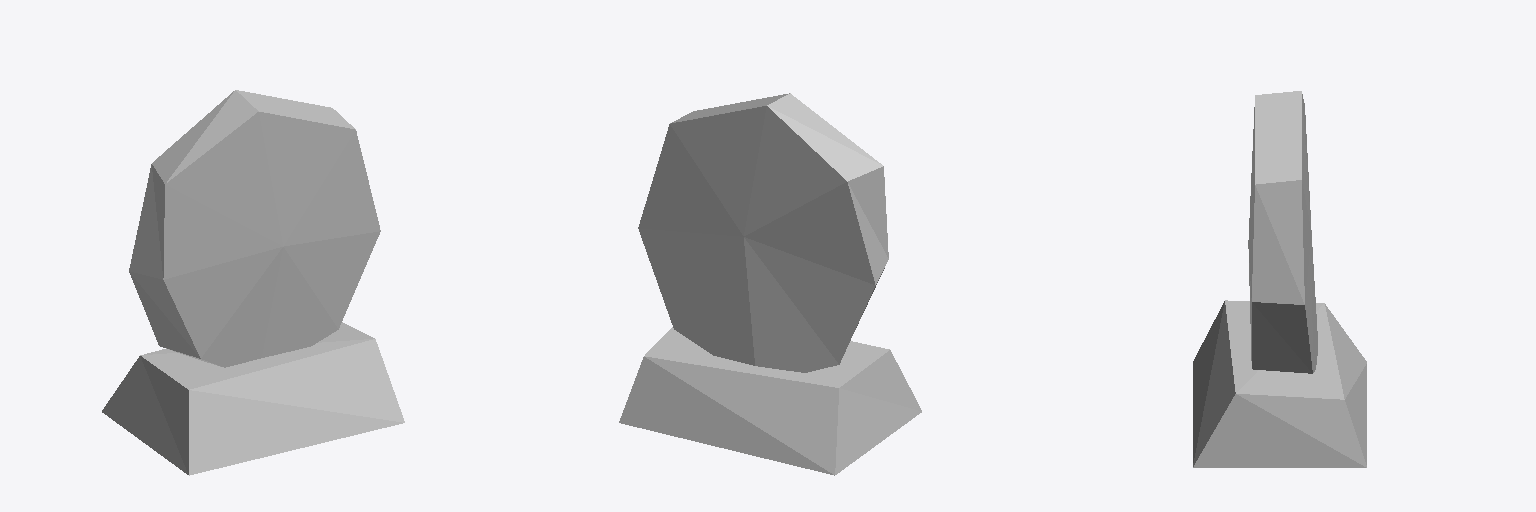
File: Monument.obj
3 views of the same model, side by side, from view 1: azimuth 30°, elevation 25°; view 2: azimuth 150°, elevation 25°; view 3: azimuth 270°, elevation 25° (orthographic).
Visible parts, largest first — view 1: Monument; view 2: Monument; view 3: Monument.
Boxes of the visible parts, x1=… form: Monument: x1=102, y1=90, x2=404, y2=475; Monument: x1=619, y1=93, x2=921, y2=475; Monument: x1=1193, y1=91, x2=1366, y2=467.
Size of the model in its own units: 2.17 by 2.84 by 1.4.